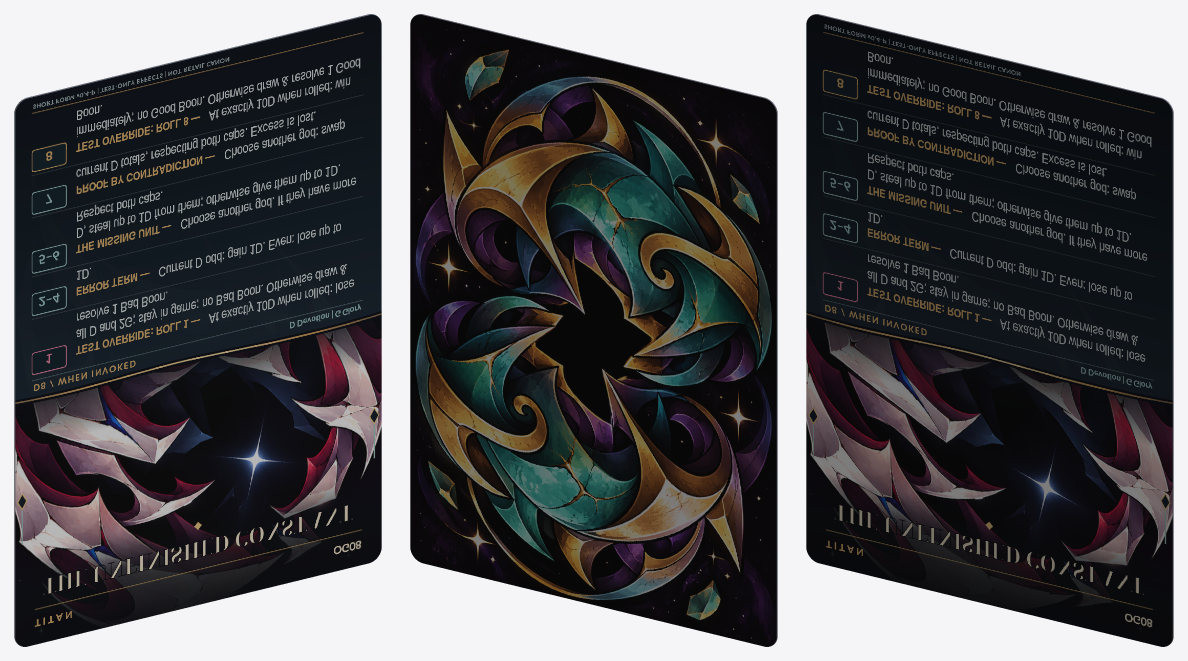
Rendered from SGLD_OG08_The_Unfinished_Constant_3D_Card_v0.1-P_UNAPPROVED.glb.
The picture shows the model from 3 angles, left to right: view 1: azimuth 30°, elevation 25°; view 2: azimuth 150°, elevation 25°; view 3: azimuth 330°, elevation 25°; orthographic projection.
Visible parts, largest first — view 1: OG08_FRONT, OG08_EDGE; view 2: OG08_BACK, OG08_EDGE; view 3: OG08_FRONT, OG08_EDGE.
Part boxes in pixels (x1=…): OG08_FRONT: x1=15, y1=15, x2=381, y2=646; OG08_EDGE: x1=14, y1=14, x2=381, y2=646; OG08_BACK: x1=410, y1=15, x2=776, y2=646; OG08_EDGE: x1=410, y1=14, x2=777, y2=646; OG08_FRONT: x1=806, y1=15, x2=1172, y2=646; OG08_EDGE: x1=806, y1=14, x2=1173, y2=646.
Size of the model in its own units: 0.0889 by 0.127 by 0.00035.
3 materials, 2 textured.
